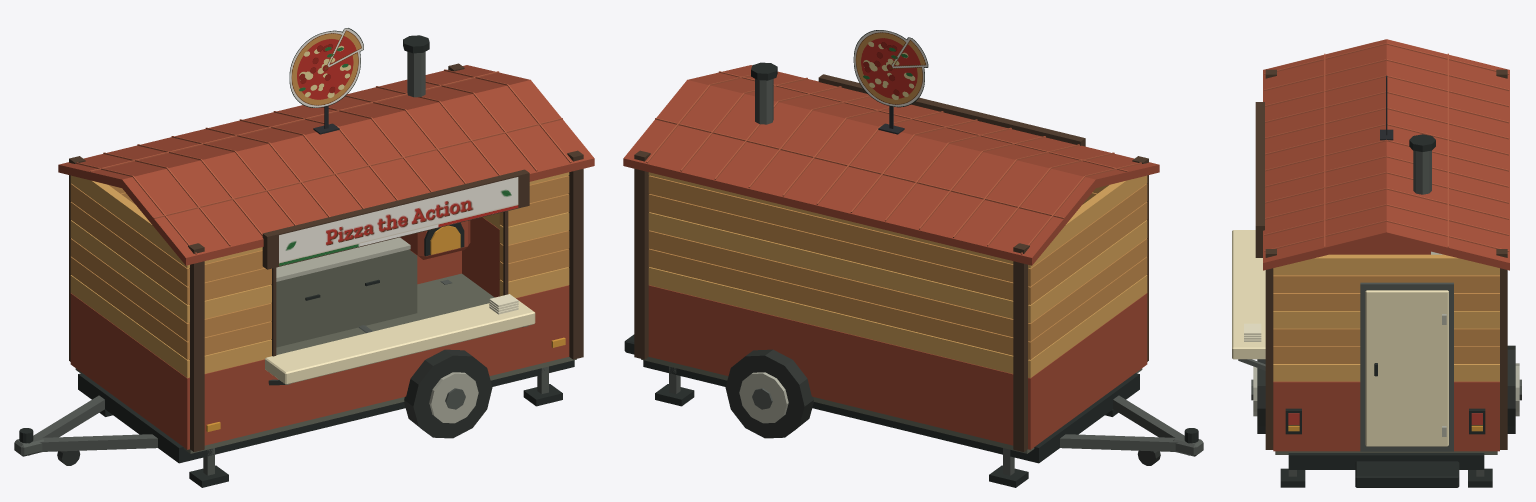
Rendered from ft_food_pizza_production_v1.glb.
3 renders of one model, left to right at view 1: azimuth 30°, elevation 25°; view 2: azimuth 150°, elevation 25°; view 3: azimuth 270°, elevation 25°, orthographic. The views are drawn at different scales.
Parts seen in each view (by area): view 1: ft_food_pizza_production_v1; view 2: ft_food_pizza_production_v1; view 3: ft_food_pizza_production_v1.
Part boxes in pixels (left/top/right/bottom): ft_food_pizza_production_v1: left=14, top=28, right=594, bottom=487; ft_food_pizza_production_v1: left=623, top=30, right=1203, bottom=487; ft_food_pizza_production_v1: left=1232, top=39, right=1521, bottom=487.
Bounding box in the file's own units: 5.85 × 3.94 × 2.81.
Materials: 4 (3 with a texture image).
